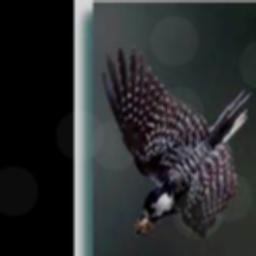Woodpecker: (95, 39, 250, 246)
